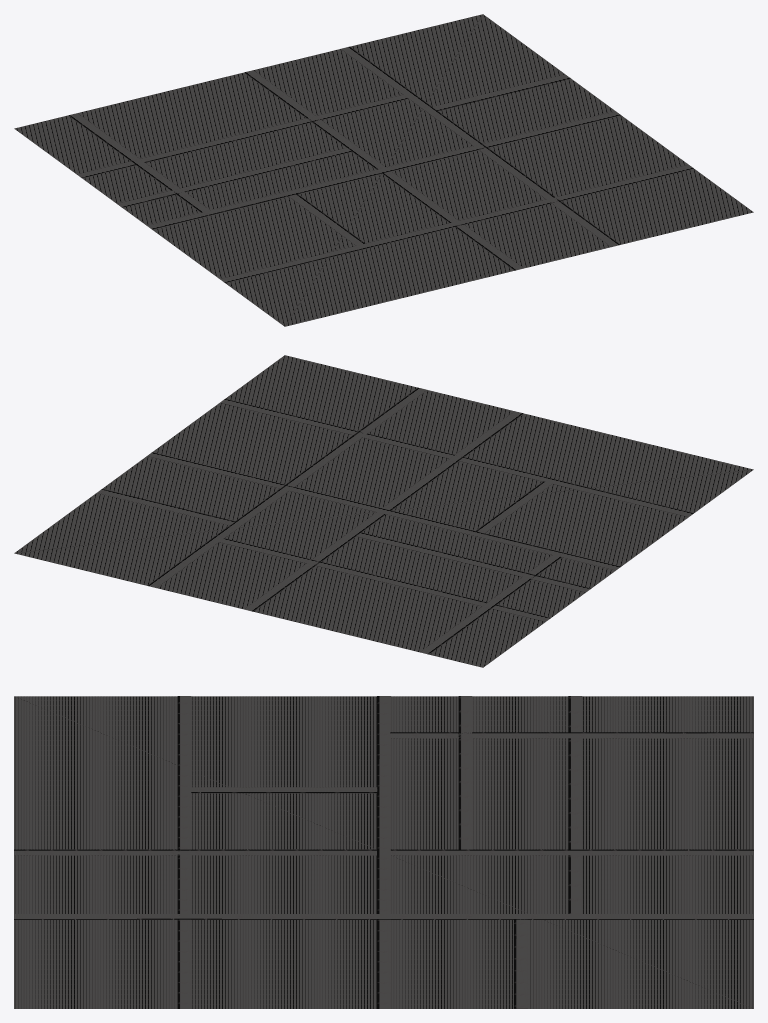
Rendered from CityGround_01_b.fbx.
3 views of the same model, one above another, from view 1: azimuth 30°, elevation 25°; view 2: azimuth 150°, elevation 25°; view 3: azimuth 270°, elevation 25° (orthographic). The views are drawn at different scales.
Parts seen in each view (by area): view 1: atras; view 2: atras; view 3: atras.
Part boxes in pixels (x1,y1,x2,y2): atras: (14,14,753,326); atras: (14,355,753,667); atras: (14,696,753,1008).
Bounding box in the file's own units: 1600 × 0.2054 × 1600.
Materials: 1 (1 with a texture image).
